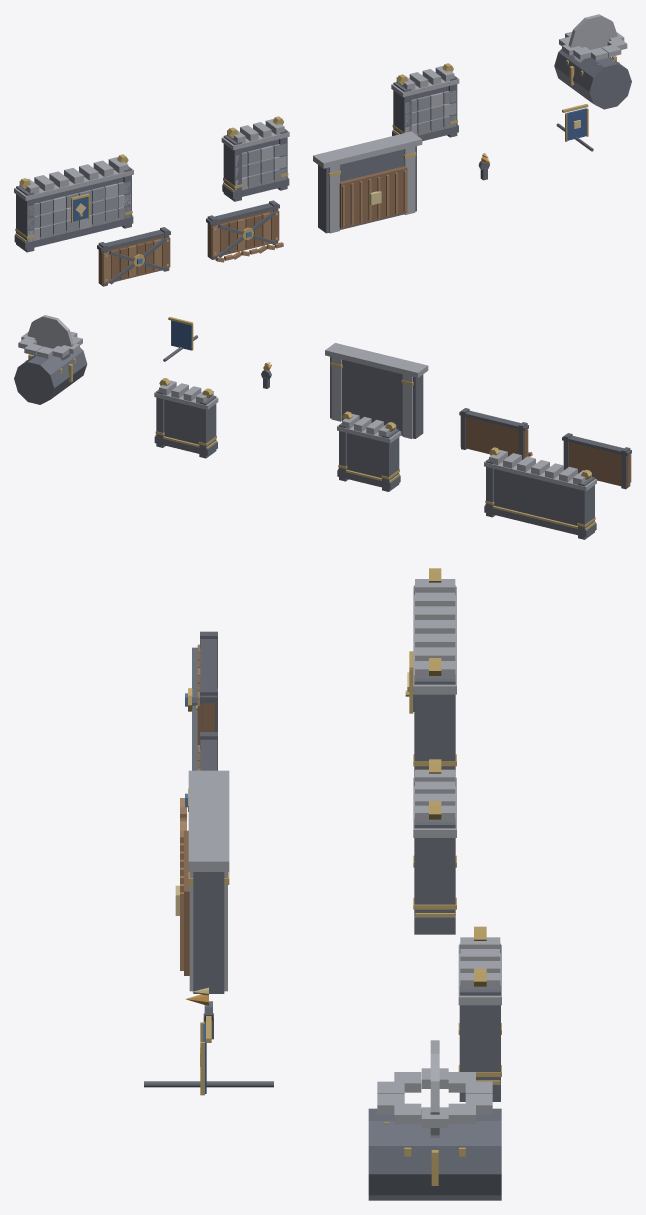
The model's file is fortress.glb.
3 renders of one model, top to bottom at view 1: azimuth 30°, elevation 25°; view 2: azimuth 150°, elevation 25°; view 3: azimuth 270°, elevation 25°, orthographic. The views are drawn at different scales.
Visible parts, largest first — view 1: Tower_Round_Core, Gate_Double_Door, Gate_Double_Frame, Gate_Double_Lintel, Tower_Round_TopCap, Wall_Straight_4m_Foundation, Wall_Straight_2m_Pillar_0, Wall_Straight_4m_Pillar_0, Wall_Straight_4m_Coping, Wall_Corner_Pillar_0, Gate_Double_Pier_-1, Gate_Double_Pier_1 (+9 smaller); view 2: Gate_Double_Frame, Wall_Straight_4m_Core, Tower_Round_Core, Barricade_Intact_Backing, Barricade_Damaged_Backing, Gate_Double_Lintel, Wall_Corner_Core, Wall_Straight_2m_Core, Tower_Round_TopCap, Wall_Straight_4m_Foundation, Wall_Straight_2m_Pillar_0, Wall_Corner_Pillar_0 (+14 smaller); view 3: Tower_Round_Core, Gate_Double_Lintel, Gate_Double_Frame, Wall_Straight_2m_Pillar_1, Wall_Corner_Pillar_1, Wall_Straight_4m_Pillar_1, Barricade_Intact_TopBrace, Gate_Double_Pier_1, Wall_Straight_4m_Coping, Banner_Stand_Pole.
Boxes of the visible parts, box(x1,y1,x2,y2) form: Tower_Round_Core: box(554, 49, 631, 109); Gate_Double_Door: box(339, 166, 407, 228); Gate_Double_Frame: box(318, 146, 416, 233); Gate_Double_Lintel: box(313, 131, 422, 168); Tower_Round_TopCap: box(568, 14, 617, 62); Wall_Straight_4m_Foundation: box(14, 216, 133, 249); Wall_Straight_2m_Pillar_0: box(223, 135, 241, 201); Wall_Straight_4m_Pillar_0: box(16, 185, 34, 252); Wall_Straight_4m_Coping: box(14, 167, 133, 200); Wall_Corner_Pillar_0: box(393, 82, 411, 133); Gate_Double_Pier_-1: box(329, 165, 339, 233); Gate_Double_Pier_1: box(404, 146, 415, 214); Gate_Double_Frame: box(330, 356, 423, 438); Wall_Straight_4m_Core: box(494, 469, 577, 525); Tower_Round_Core: box(14, 347, 87, 404); Barricade_Intact_Backing: box(568, 442, 630, 487); Barricade_Damaged_Backing: box(460, 416, 527, 458); Gate_Double_Lintel: box(325, 343, 428, 377); Wall_Corner_Core: box(164, 399, 199, 444); Wall_Straight_2m_Core: box(347, 433, 381, 478); Tower_Round_TopCap: box(27, 315, 73, 360); Wall_Straight_4m_Foundation: box(484, 506, 596, 537); Wall_Straight_2m_Pillar_0: box(382, 429, 399, 491); Wall_Corner_Pillar_0: box(199, 395, 216, 458); Tower_Round_Core: box(368, 1108, 501, 1200); Gate_Double_Lintel: box(188, 770, 229, 871); Gate_Double_Frame: box(193, 872, 224, 993); Wall_Straight_2m_Pillar_1: box(414, 818, 455, 934); Wall_Corner_Pillar_1: box(459, 985, 500, 1101); Wall_Straight_4m_Pillar_1: box(414, 675, 455, 772); Barricade_Intact_TopBrace: box(200, 639, 217, 703); Gate_Double_Pier_1: box(189, 872, 227, 991); Wall_Straight_4m_Coping: box(413, 586, 456, 694); Banner_Stand_Pole: box(144, 1081, 273, 1087).
Size of the model in its own units: 23.15 by 3.4 by 6.34.
